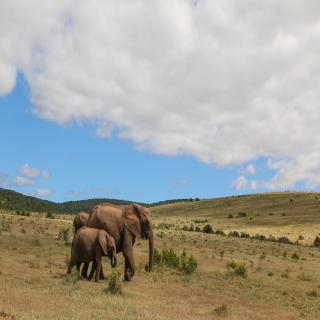Elephant: (84, 194, 159, 288), (66, 225, 119, 286)
